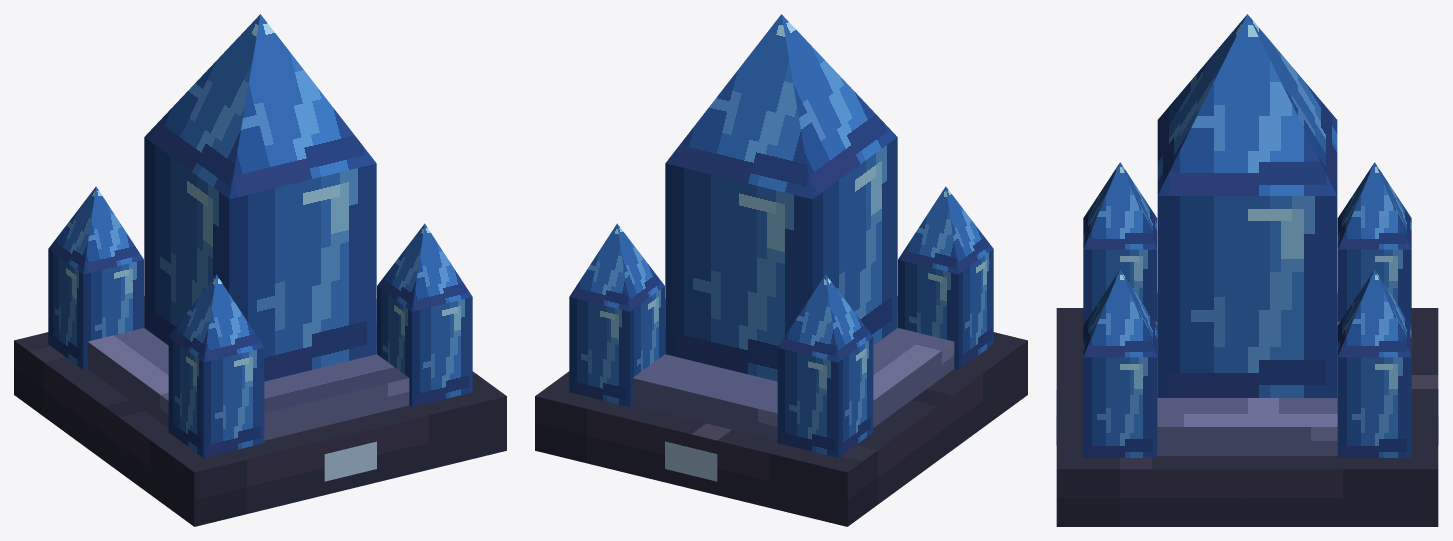
The model's file is storage_nexus.obj.
The picture shows the model from 3 angles, left to right: view 1: azimuth 30°, elevation 25°; view 2: azimuth 150°, elevation 25°; view 3: azimuth 270°, elevation 25°; orthographic projection. The views are drawn at different scales.
Parts seen in each view (by area): view 1: Nexus_heart, Obsidian_mineral_plinth, Crown_point_3, Violet_socket, Crown_point_4, Crown_point, Channel_inlay_south; view 2: Nexus_heart, Obsidian_mineral_plinth, Crown_point, Violet_socket, Crown_point_2, Crown_point_3, Channel_inlay_north; view 3: Nexus_heart, Obsidian_mineral_plinth, Crown_point_2, Crown_point_4, Violet_socket, Crown_point, Crown_point_3.
Part boxes in pixels (box(x1,y1,x2,y2)): Nexus_heart: box(144, 14, 376, 381); Obsidian_mineral_plinth: box(14, 332, 506, 526); Crown_point_3: box(168, 274, 264, 457); Violet_socket: box(87, 296, 409, 440); Crown_point_4: box(377, 223, 472, 406); Crown_point: box(48, 186, 143, 369); Channel_inlay_south: box(324, 441, 376, 481); Nexus_heart: box(665, 14, 897, 381); Obsidian_mineral_plinth: box(535, 332, 1027, 526); Crown_point: box(777, 274, 873, 457); Violet_socket: box(632, 296, 954, 440); Crown_point_2: box(569, 223, 664, 406); Crown_point_3: box(898, 186, 993, 369); Channel_inlay_north: box(665, 441, 717, 481); Nexus_heart: box(1157, 14, 1337, 397); Obsidian_mineral_plinth: box(1056, 308, 1438, 526); Crown_point_2: box(1337, 270, 1411, 457); Crown_point_4: box(1083, 270, 1157, 457); Violet_socket: box(1155, 293, 1339, 455); Crown_point: box(1337, 162, 1411, 324); Crown_point_3: box(1083, 162, 1157, 324).
Size of the model in its own units: 0.75 by 0.9375 by 0.7513.
